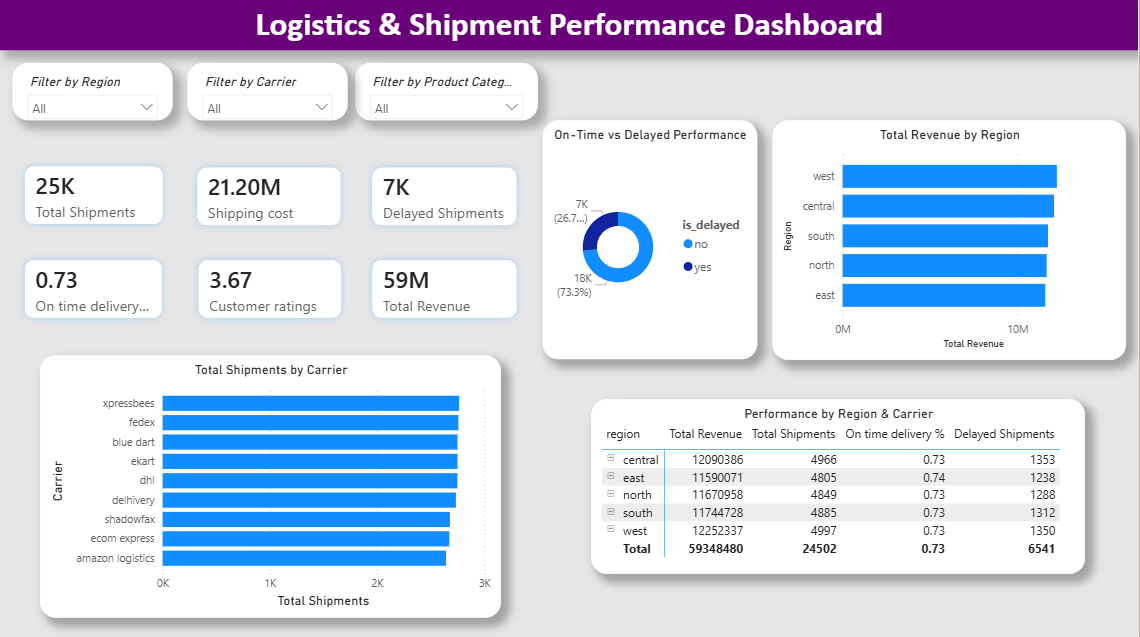

This screenshot's page, from the dashboard's own definition file:
{"tool":"powerbi","page":{"name":"Executive Overview","canvas":[1280,720],"ordinal":0},"visuals":[{"type":"textbox","box":[0,0,1280.3,57.4],"z":6000},{"type":"cardVisual","fields":{"Data":["fact_shipments.On time delivery %"]},"box":[0,266,210.9,112.8],"z":7000},{"type":"cardVisual","fields":{"Data":["fact_shipments.Delayed Shipments"]},"box":[390.9,161.2,219,112.8],"z":7500},{"type":"cardVisual","fields":{"Data":["Avg(fact_shipments.customer_rating)"]},"box":[194.8,266,216.3,112.8],"z":7750},{"type":"cardVisual","fields":{"Data":["Sum(fact_shipments.shipping_cost)"]},"box":[193.5,161.2,217.6,112.8],"z":7875},{"type":"cardVisual","fields":{"Data":["fact_shipments.Total Revenue"]},"box":[390.9,266,219,112.8],"z":7937},{"type":"cardVisual","fields":{"Data":["fact_shipments.Total Shipments"]},"box":[0,160.9,211.2,113.3],"z":7968},{"type":"clusteredBarChart","fields":{"Y":["fact_shipments.Total Shipments"],"Category":["fact_shipments.carrier"]},"box":[44.3,400.3,518.6,295.6],"z":8000},{"type":"donutChart","title":"On-Time vs Delayed Performance","fields":{"Category":["fact_shipments.is_delayed"],"Y":["fact_shipments.Total Shipments"]},"box":[609.9,136.3,241.7,268.4],"z":9000},{"type":"pivotTable","title":"Performance by Region & Carrier","fields":{"Rows":["fact_shipments.region","fact_shipments.carrier"],"Values":["fact_shipments.Total Revenue","fact_shipments.Total Shipments","fact_shipments.On time delivery %","fact_shipments.Delayed Shipments"]},"box":[664.7,449.7,555.1,196.8],"z":10000},{"type":"slicer","fields":{"Values":["fact_shipments.region"]},"box":[13.4,71.2,180,64.5],"z":11000},{"type":"slicer","fields":{"Values":["fact_shipments.product_category"]},"box":[399,71.2,205.5,64.5],"z":12000},{"type":"slicer","fields":{"Values":["fact_shipments.carrier"]},"box":[210.9,71.2,180,64.5],"z":13000},{"type":"barChart","fields":{"Y":["fact_shipments.Total Revenue"],"Category":["fact_shipments.region"]},"box":[868.5,136.3,397.7,269.8],"z":14000}]}

Visuals, with their boxes in screenshot pixels (x1, y1, x2, y2), scaled from the page's 1280x720 canvas onto the 1140x637 screenshot:
textbox: (x1=0, y1=0, x2=1139, y2=51)
cardVisual - fact_shipments.On time delivery %: (x1=0, y1=235, x2=188, y2=335)
cardVisual - fact_shipments.Delayed Shipments: (x1=348, y1=143, x2=543, y2=242)
cardVisual - Avg(fact_shipments.customer_rating): (x1=173, y1=235, x2=366, y2=335)
cardVisual - Sum(fact_shipments.shipping_cost): (x1=172, y1=143, x2=366, y2=242)
cardVisual - fact_shipments.Total Revenue: (x1=348, y1=235, x2=543, y2=335)
cardVisual - fact_shipments.Total Shipments: (x1=0, y1=142, x2=188, y2=243)
clusteredBarChart - fact_shipments.Total Shipments x fact_shipments.carrier: (x1=39, y1=354, x2=501, y2=616)
"On-Time vs Delayed Performance" donutChart: (x1=543, y1=121, x2=758, y2=358)
"Performance by Region & Carrier" pivotTable: (x1=592, y1=398, x2=1086, y2=572)
slicer - fact_shipments.region: (x1=12, y1=63, x2=172, y2=120)
slicer - fact_shipments.product_category: (x1=355, y1=63, x2=538, y2=120)
slicer - fact_shipments.carrier: (x1=188, y1=63, x2=348, y2=120)
barChart - fact_shipments.Total Revenue x fact_shipments.region: (x1=774, y1=121, x2=1128, y2=359)
